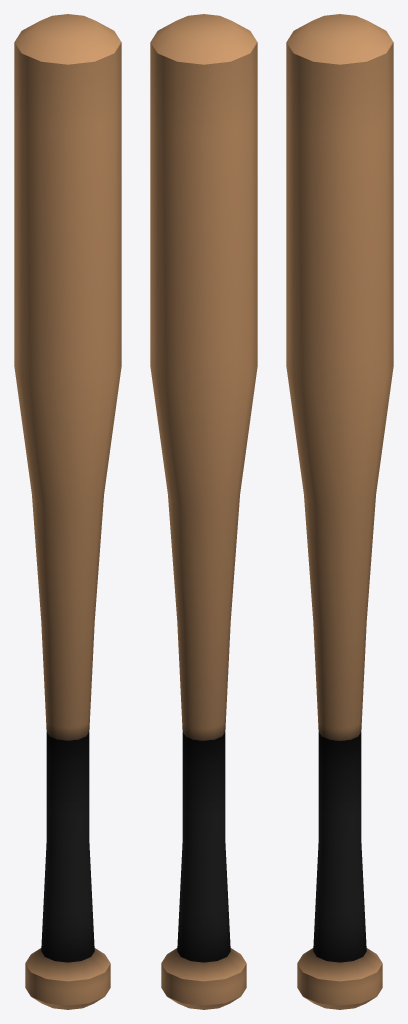
Rendered from baseballbat.glb.
3 views of the same model, side by side, from view 1: azimuth 90°, elevation 25°; view 2: azimuth 210°, elevation 25°; view 3: azimuth 270°, elevation 25° (orthographic).
Visible parts, largest first — view 1: BaseballBatV1; view 2: BaseballBatV1; view 3: BaseballBatV1.
Part boxes in pixels (box(x1,y1,x2,y2)): BaseballBatV1: box(14, 14, 121, 1009); BaseballBatV1: box(150, 14, 257, 1009); BaseballBatV1: box(286, 14, 393, 1009).
Bounding box in the file's own units: 0.72 × 7.2 × 0.72.
Materials: 1 (1 with a texture image).
